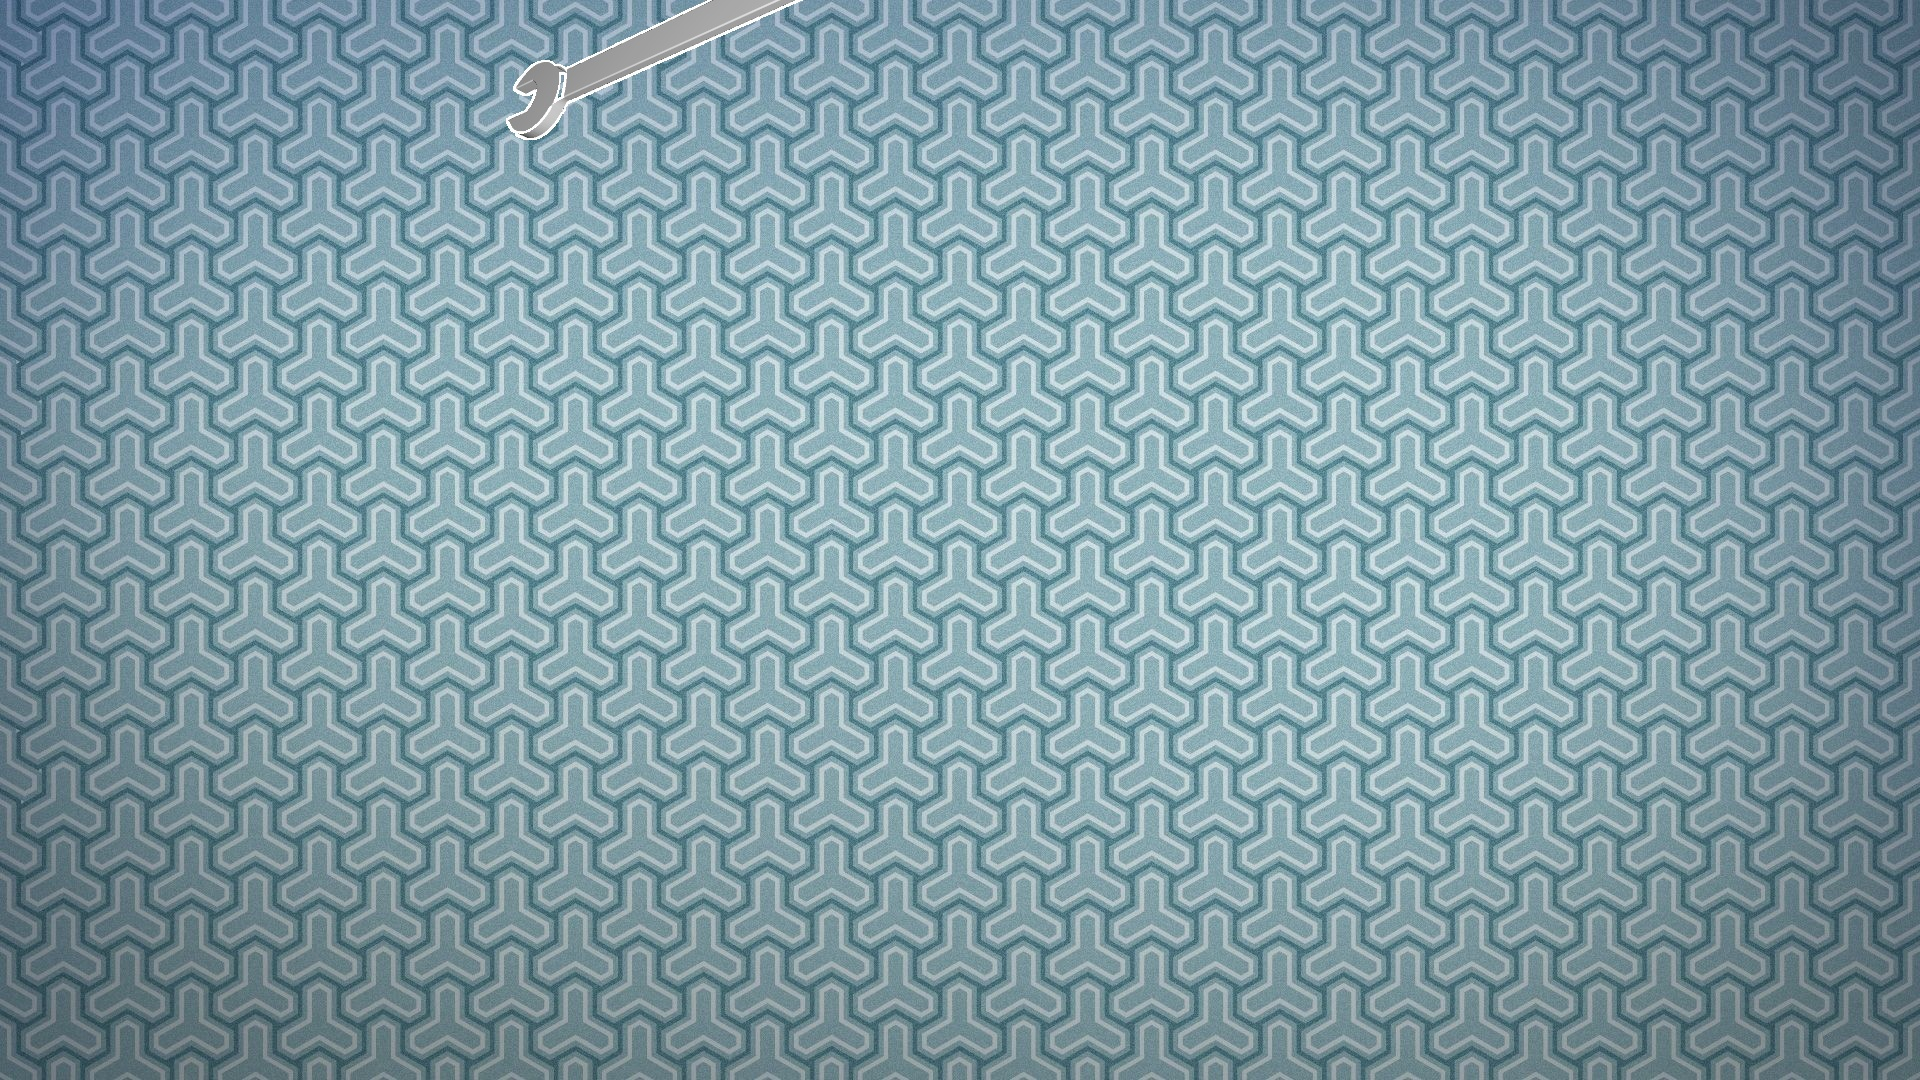Mixed Key: (506, 0, 802, 138)
